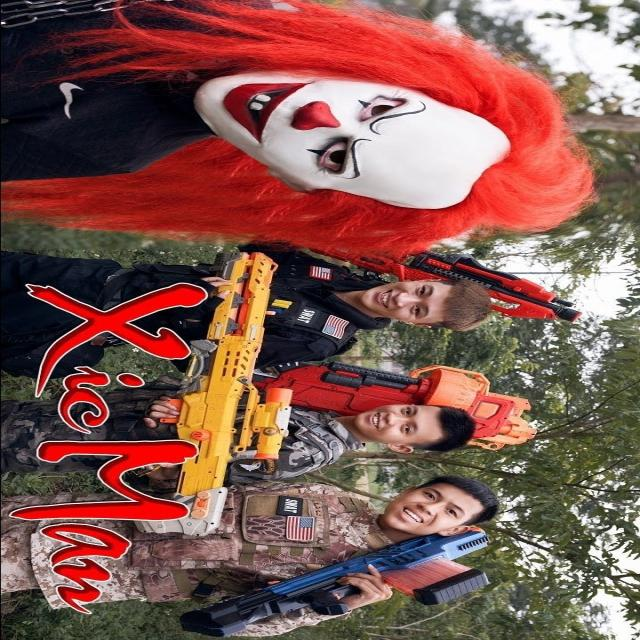Nerf gun: (124, 248, 297, 546), (170, 516, 500, 640), (255, 348, 541, 451), (316, 238, 589, 332)
